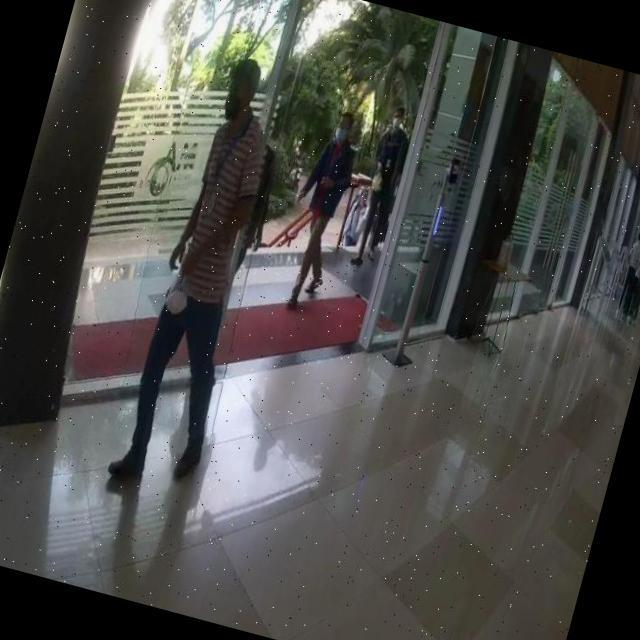person: (108, 54, 304, 498), (264, 105, 370, 316), (346, 102, 419, 268)
